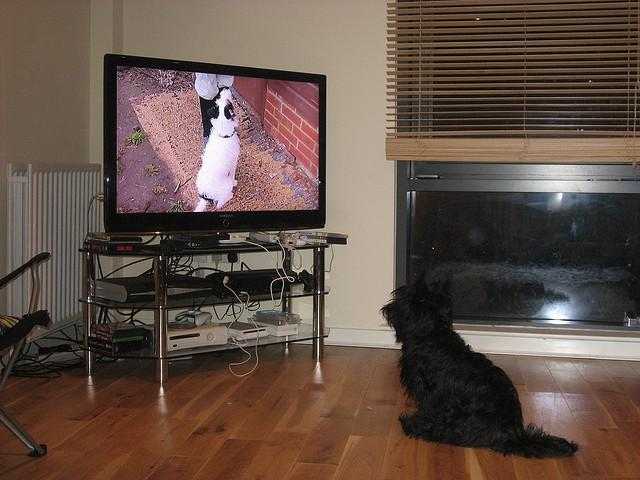tv: (103, 43, 327, 236)
